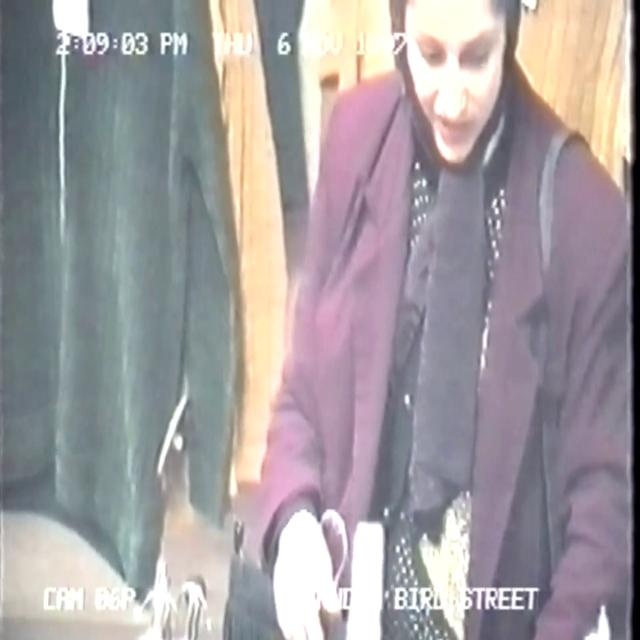Product: (219, 529, 338, 640)
shoplifting: (165, 0, 636, 640)
